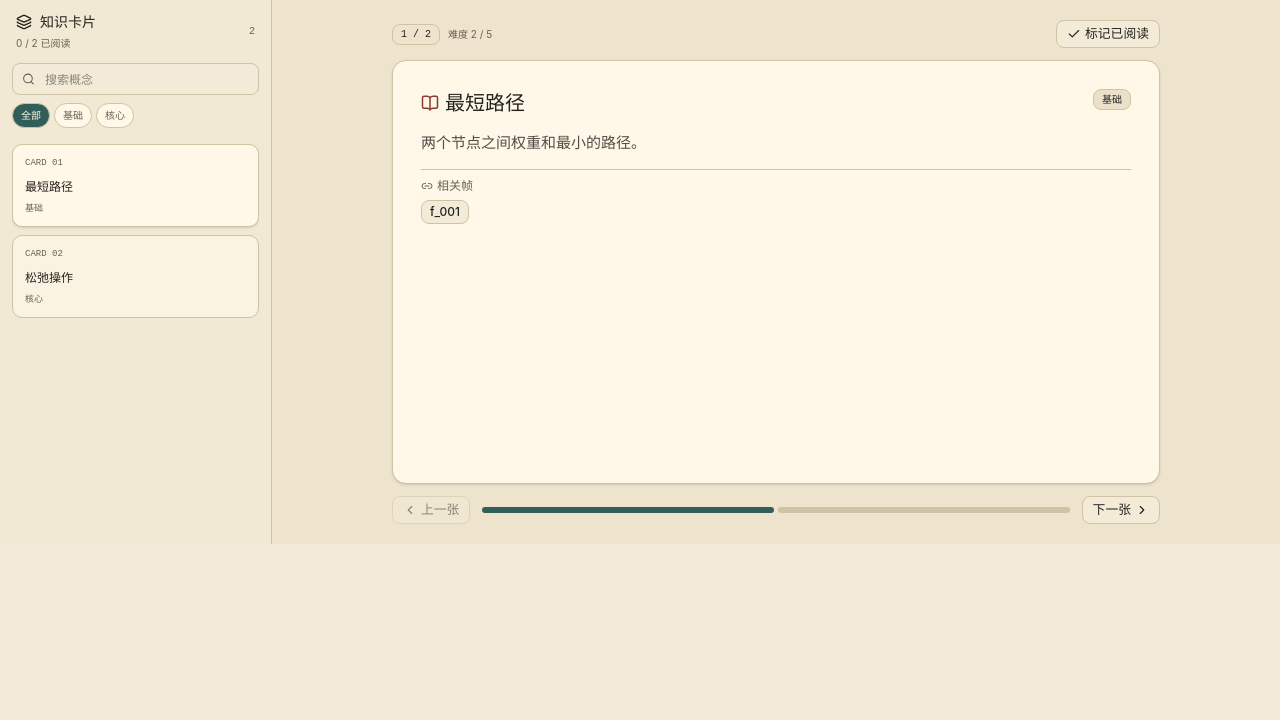
Test case: KnowledgeCardDeck › supports direct card navigation and reading progress
Click the button with aria-label "阅读卡片 2：松弛操作".
click(136, 276)  # box [12, 235, 259, 318]
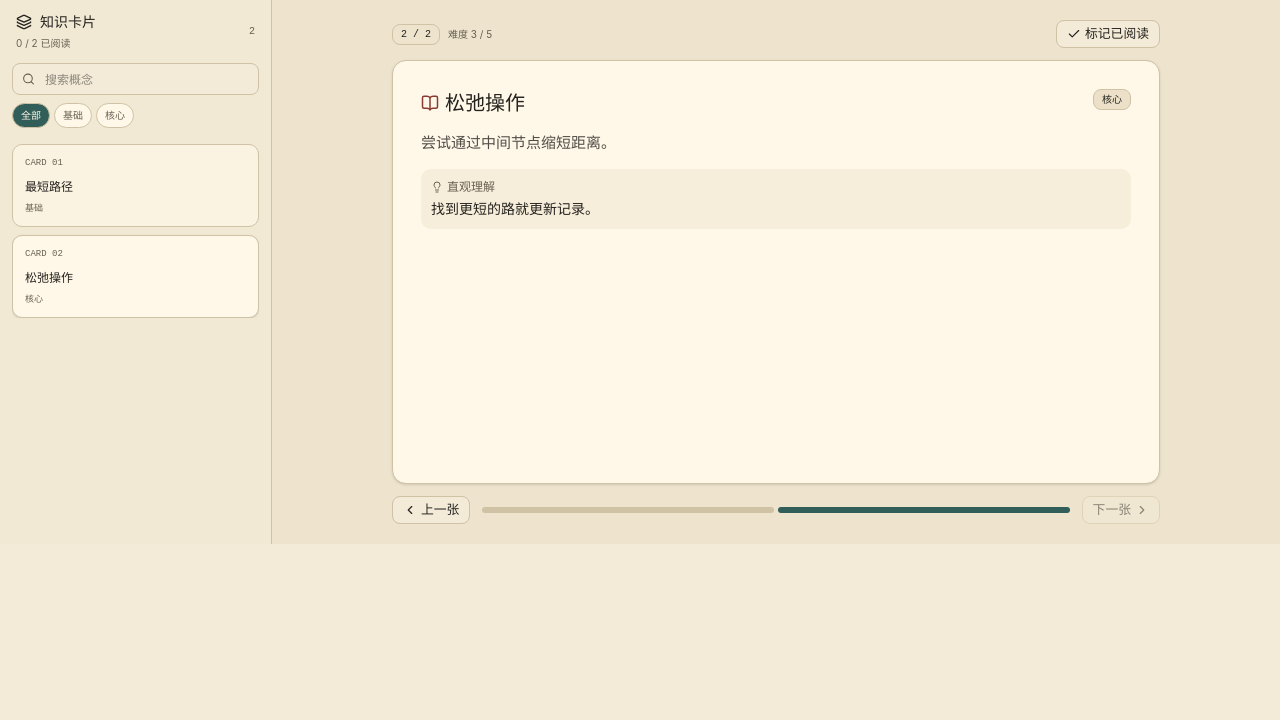
expect the text "找到更短的路就更新记录。" is shown: met, box [431, 200, 599, 217]
Click the button "标记已阅读".
click(1108, 34)  # box [1056, 20, 1160, 48]
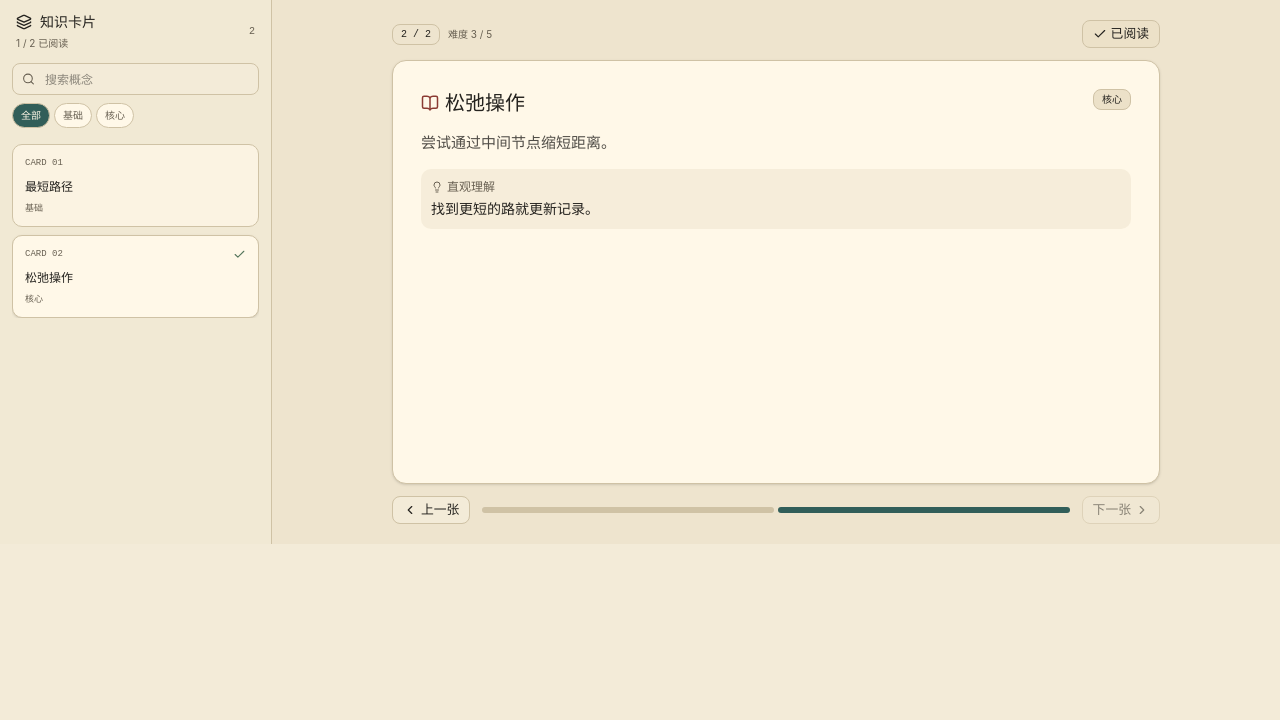
expect the button "已阅读" is shown: met, box [1082, 20, 1160, 48]
expect the text "1 / 2 已阅读" is shown: met, box [16, 37, 68, 49]
